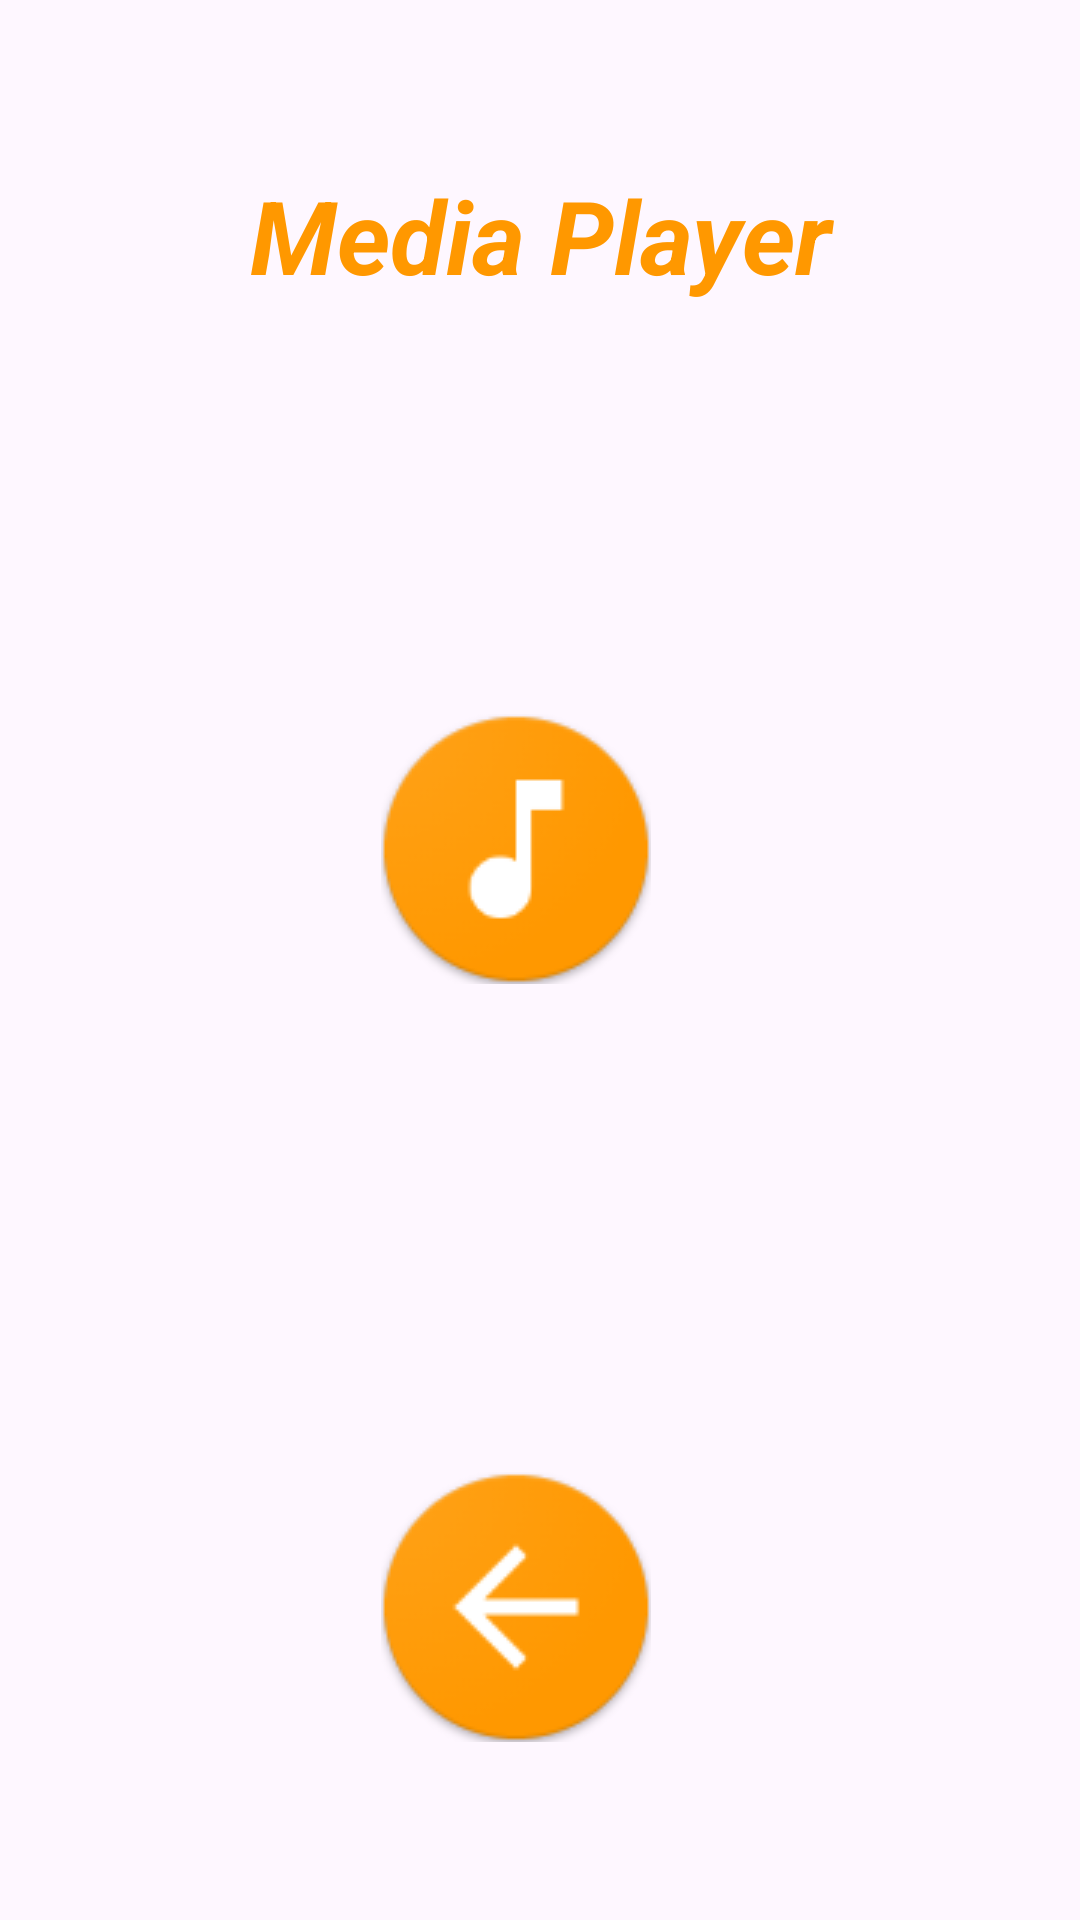

Locate icon controls on the screen. Image size 1080x1920, boxes as (x1, y1, x2, y2).
ply: (382, 716, 650, 984)
ret: (382, 1474, 650, 1742)
